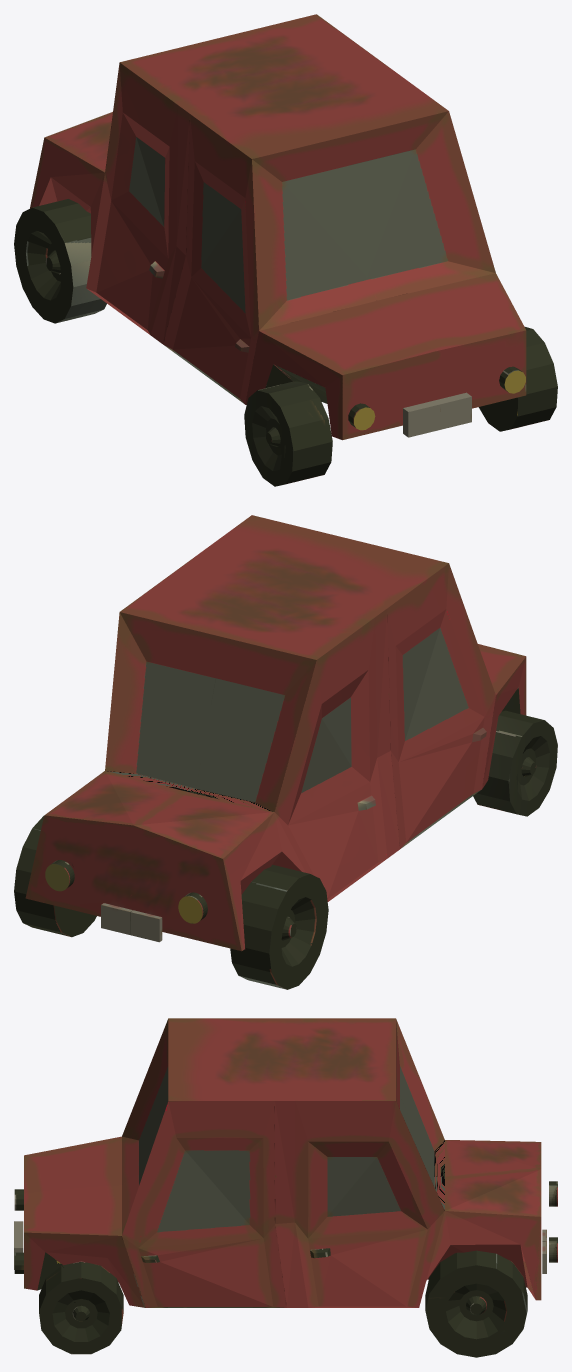
Rendered from car.obj.
3 views of the same model, one above another, from view 1: azimuth 30°, elevation 25°; view 2: azimuth 150°, elevation 25°; view 3: azimuth 270°, elevation 25° (orthographic). The views are drawn at different scales.
Parts seen in each view (by area): view 1: Cube_Cube.002; view 2: Cube_Cube.002; view 3: Cube_Cube.002.
Part boxes in pixels (<box>): Cube_Cube.002: <box>14,14,557,486</box>; Cube_Cube.002: <box>14,515,557,989</box>; Cube_Cube.002: <box>14,1018,557,1357</box>.
Bounding box in the file's own units: 2 × 2.06 × 4.15.
